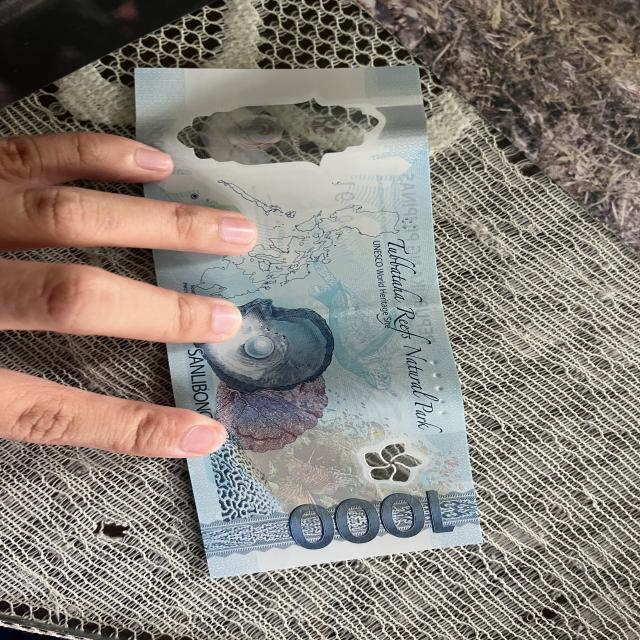clear_window: (153, 100, 412, 170)
sampaguita: (352, 446, 434, 486)
value: (278, 490, 461, 550)
